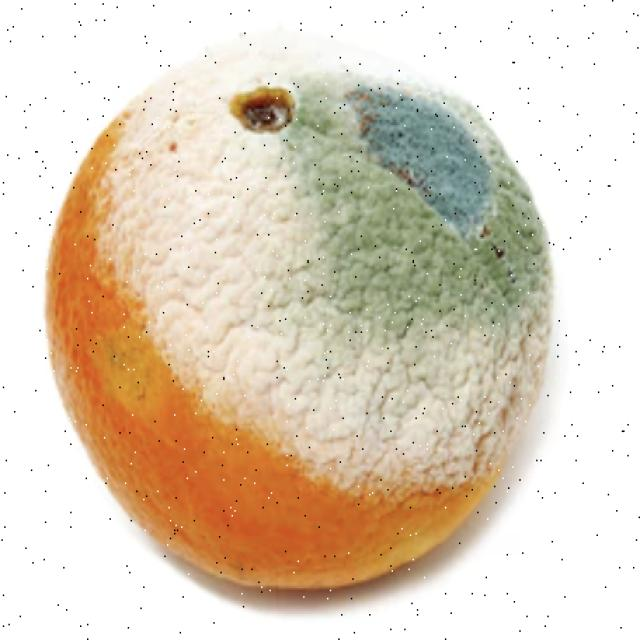Organik: (32, 14, 560, 608)
